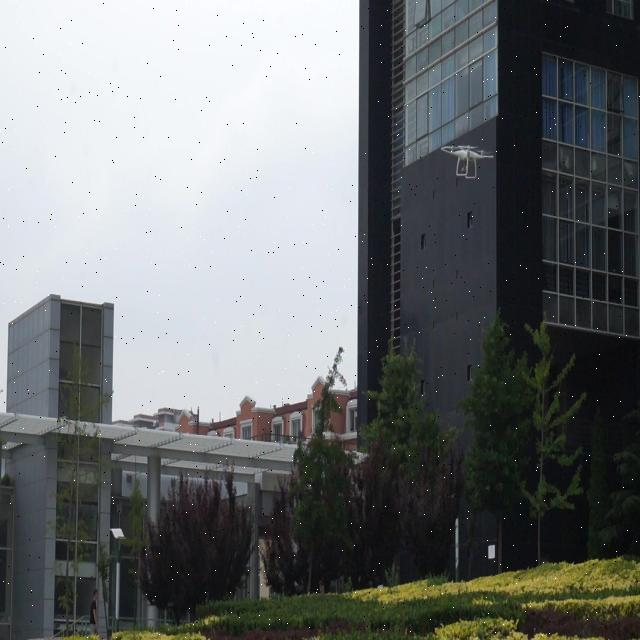UAV: (441, 145, 494, 179)
